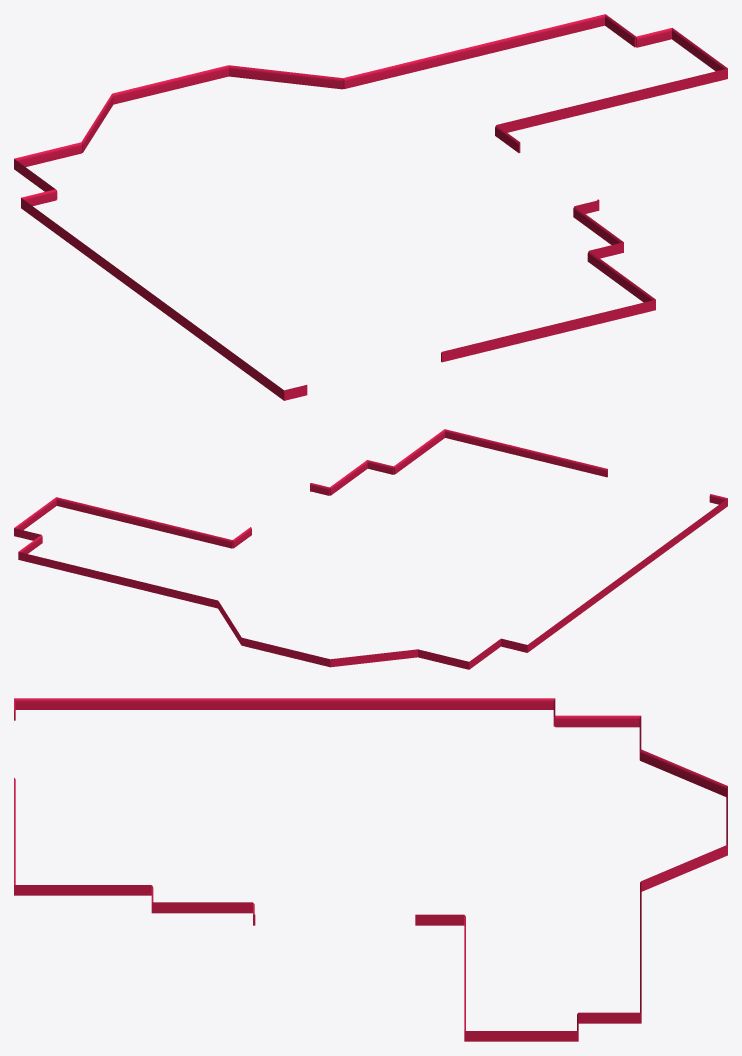
File: SM_MB_Habaki.fbx
3 renders of one model, top to bottom at view 1: azimuth 30°, elevation 25°; view 2: azimuth 150°, elevation 25°; view 3: azimuth 270°, elevation 25°, orthographic. The views are drawn at different scales.
Visible parts, largest first — view 1: SM_MB_Habaki; view 2: SM_MB_Habaki; view 3: SM_MB_Habaki.
Part boxes in pixels (box(x1,y1,x2,y2)): SM_MB_Habaki: box(14, 14, 727, 400); SM_MB_Habaki: box(14, 429, 727, 669); SM_MB_Habaki: box(14, 698, 727, 1041).
Size of the model in its own units: 458 by 7.09 by 415.
